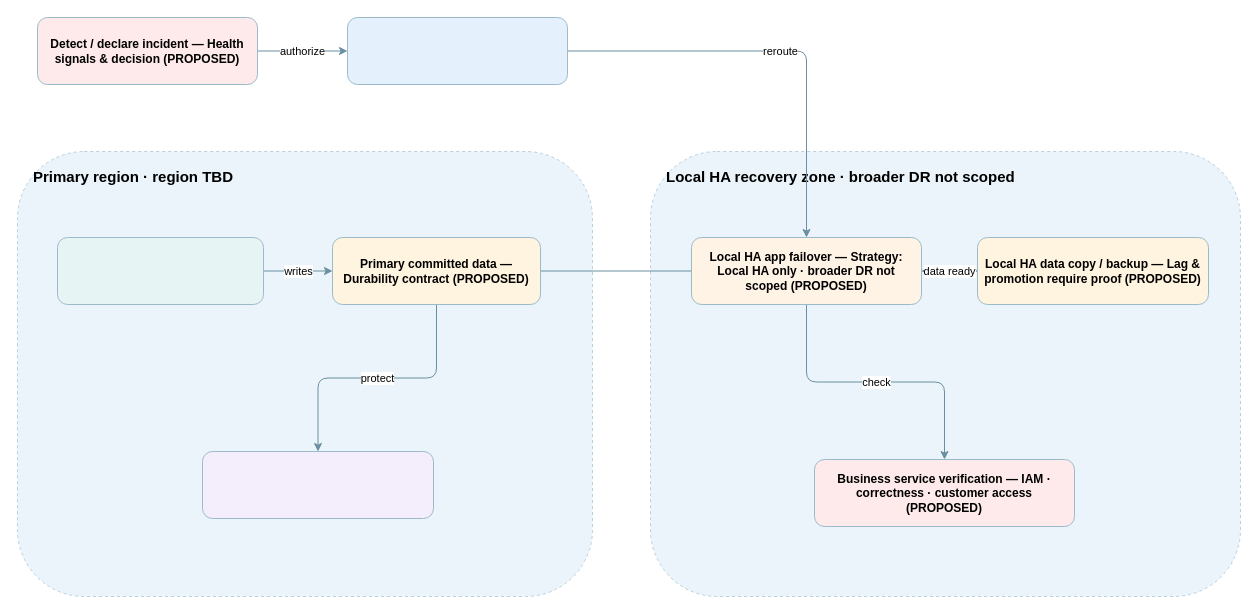
This 1258x614 diagram has some shape labels left out. Each missing label, with the centre of its shape:
"Primary application — Workload & state (PROPOSED)" belongs at pixel 160 270.
"Protected recovery points — Restore drills & isolation (PROPOSED)" belongs at pixel 318 484.
"Traffic switching — DNS / LB / global route (PROPOSED)" belongs at pixel 457 50.
